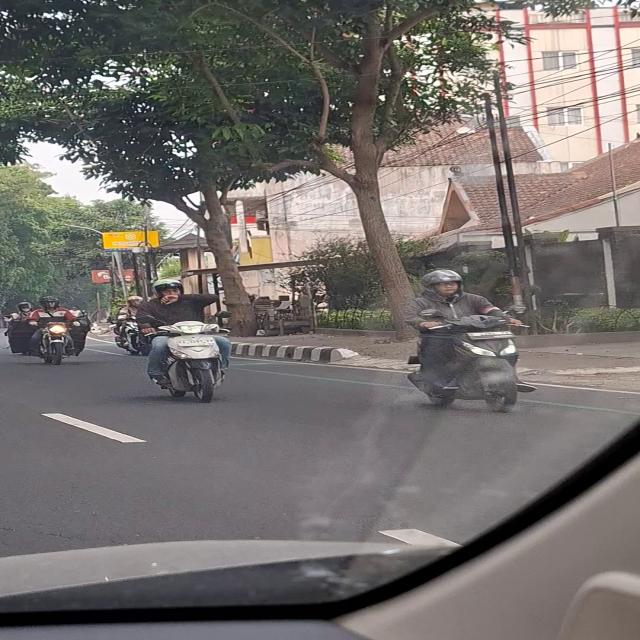WithHelmet: (403, 268, 538, 394), (131, 279, 233, 388), (25, 296, 83, 356), (8, 302, 34, 356), (116, 296, 148, 323)
